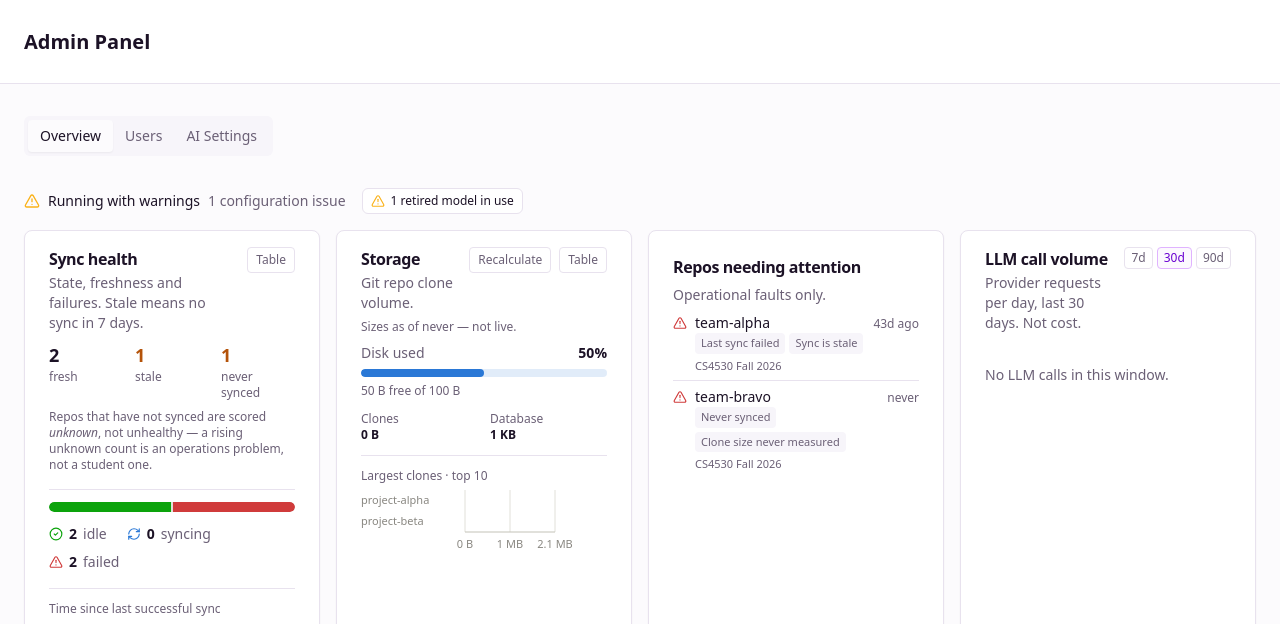
it: Storage recalculate › replaces the stale figures with the freshly measured ones
The width and height of the screenshot is (1280, 624).
Expected: the text with test id "capacity-clones" reads "0 B", [361, 426, 379, 443]
Click the button "Recalculate". click: (510, 260)
box: [469, 247, 551, 273]
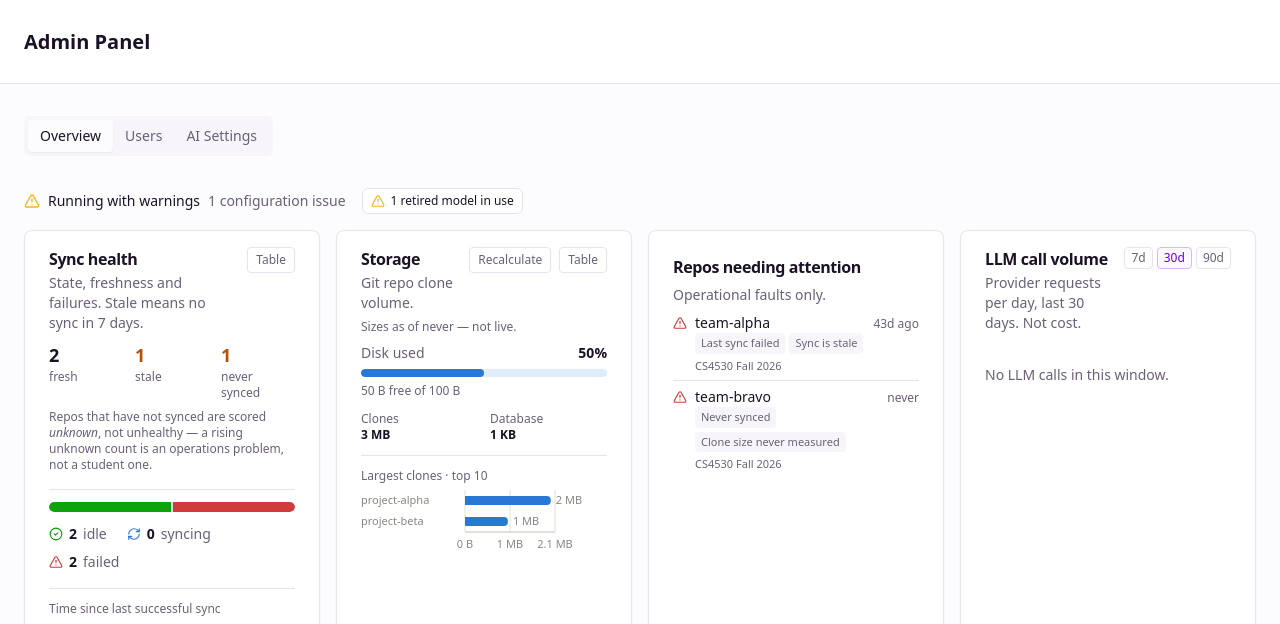
Result: the text with test id "capacity-clones" reads "3 MB" at [361, 426, 390, 443]
